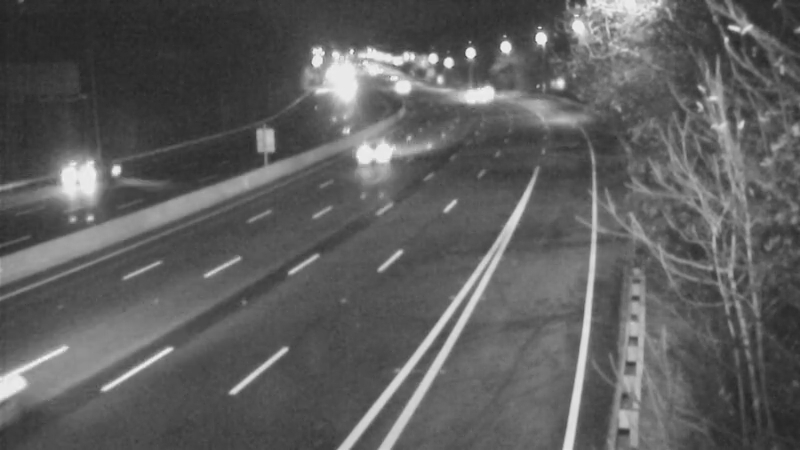vehicle: (329, 112, 409, 192), (39, 138, 119, 218), (376, 60, 426, 110), (434, 71, 484, 121), (459, 68, 509, 118)
